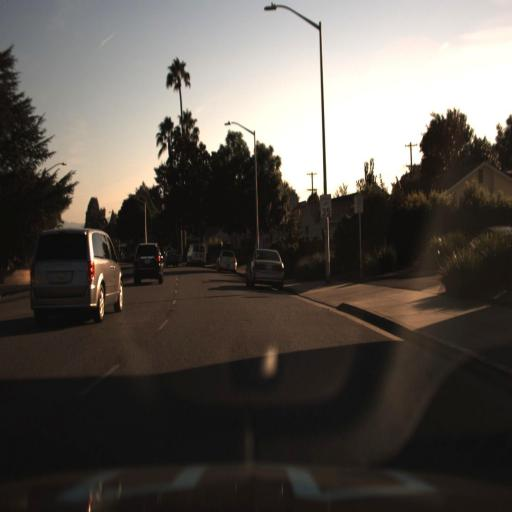car: (28, 223, 124, 327), (245, 245, 283, 289), (135, 237, 163, 291), (213, 246, 237, 274), (186, 240, 207, 268)
